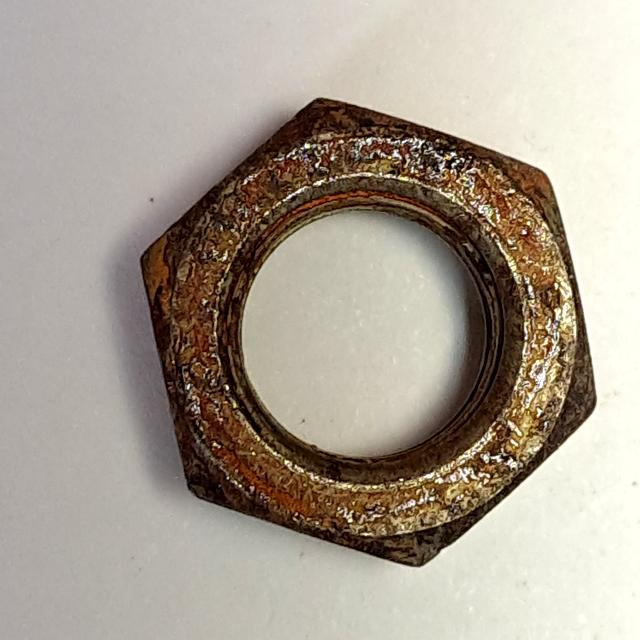Rust: (117, 76, 611, 584)
